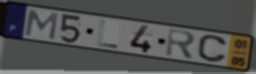4: (129, 24, 154, 54)
5: (58, 12, 84, 44)
C: (196, 34, 229, 64)
L: (96, 18, 119, 50)
M: (23, 8, 60, 41)
R: (164, 27, 198, 61)
